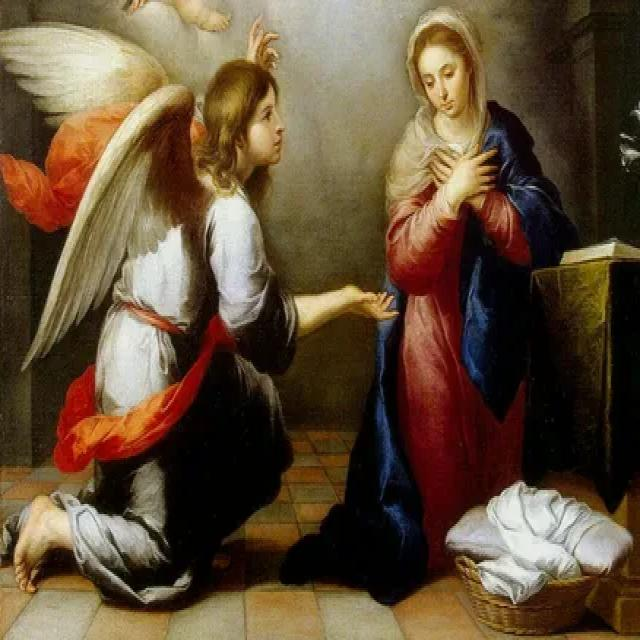mother of god: (350, 11, 576, 609)
